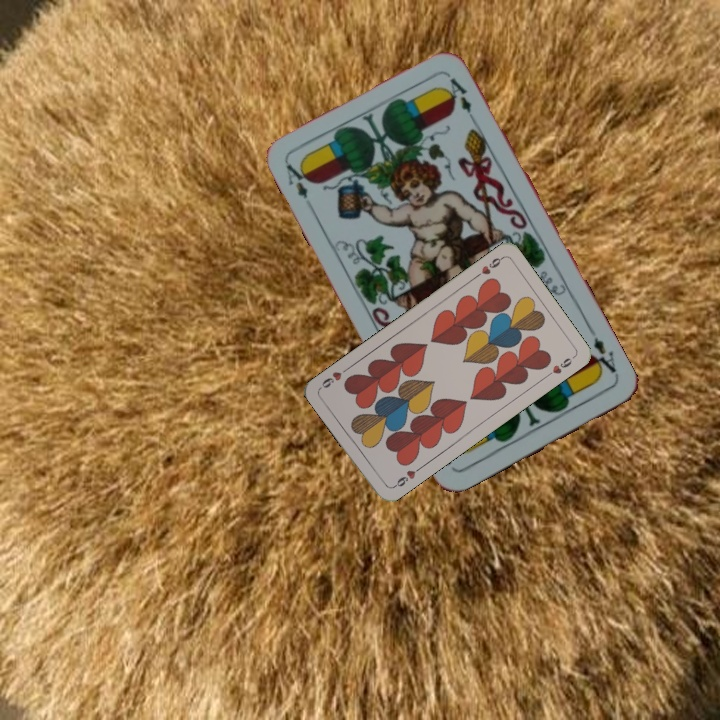EA: (585, 326, 622, 380), (282, 157, 314, 202)
H9: (470, 253, 506, 281), (388, 463, 424, 491)
